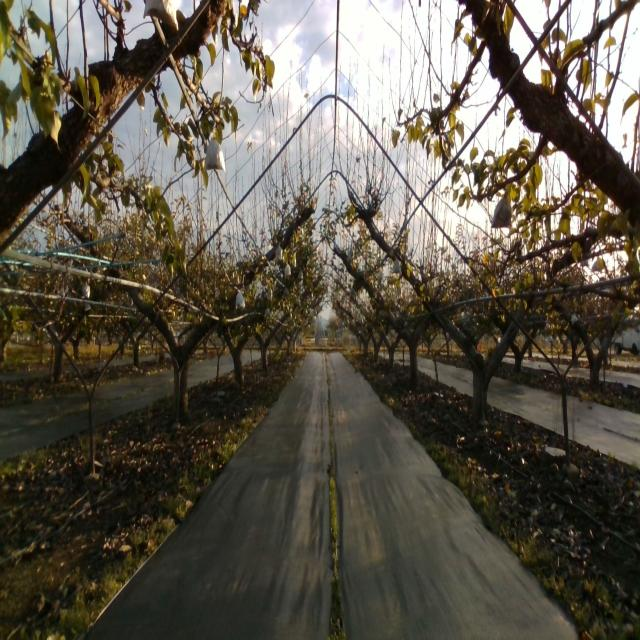pearbags: (491, 191, 512, 228), (203, 136, 224, 172), (236, 288, 246, 311), (392, 256, 402, 277)
